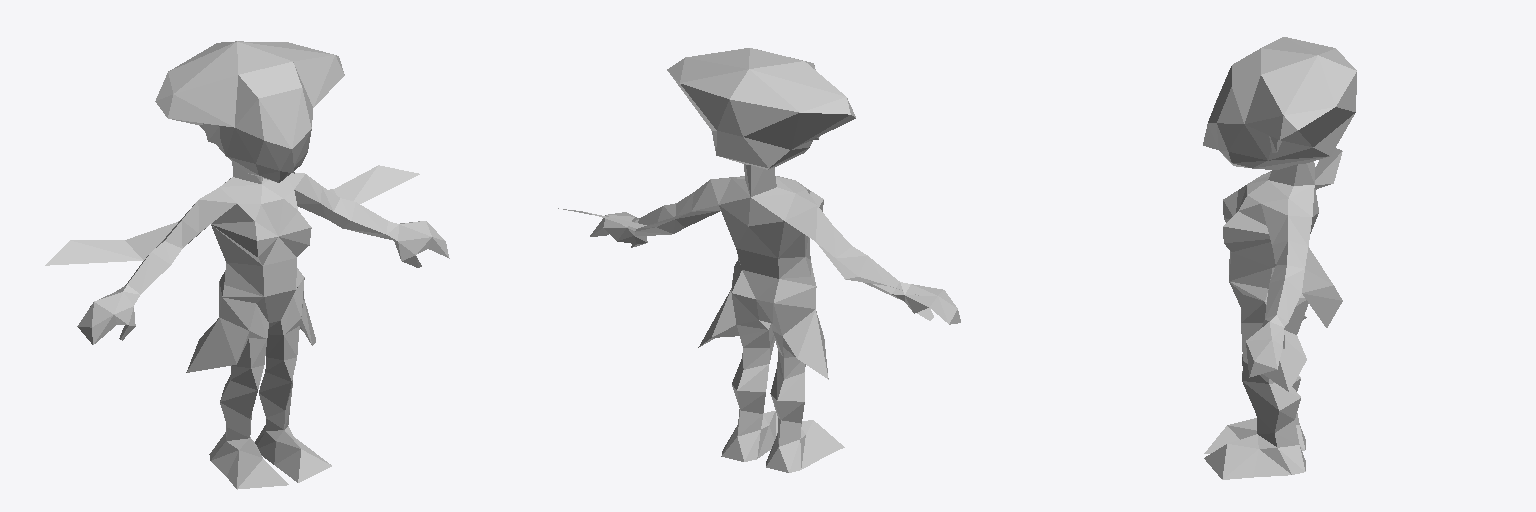
File: Princess Ruto Young.obj
3 renders of one model, left to right at view 1: azimuth 30°, elevation 25°; view 2: azimuth 150°, elevation 25°; view 3: azimuth 270°, elevation 25°, orthographic.
Visible parts, largest first — view 1: Regroup01; view 2: Regroup01; view 3: Regroup01.
Part boxes in pixels (x1,y1,x2,y2): Regroup01: (45,41,449,489); Regroup01: (558,48,960,472); Regroup01: (1203,37,1356,479).
Size of the model in its own units: 46.01 by 46.87 by 16.35.